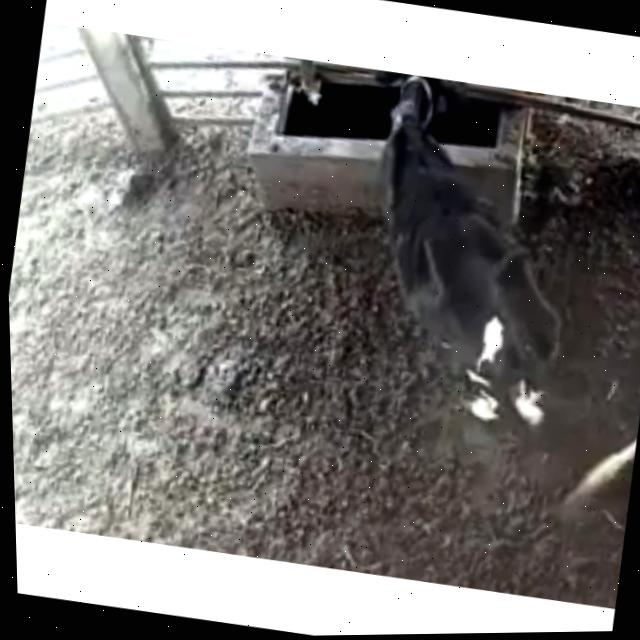drink: (337, 62, 494, 162)
